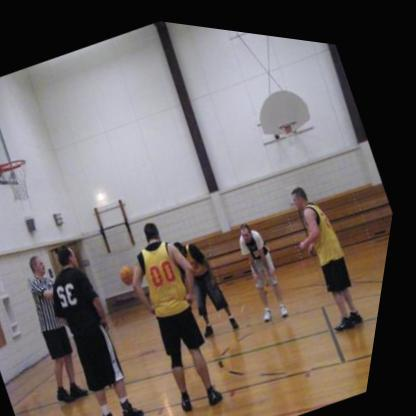basketball: (121, 258, 147, 286)
